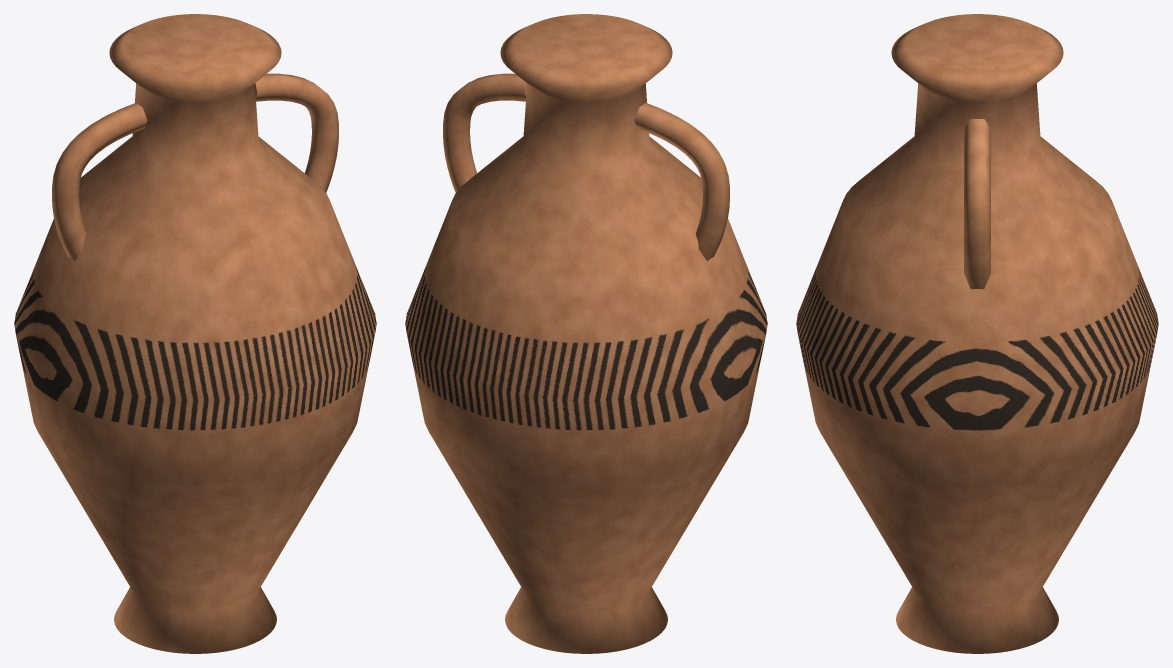
File: urn.glb
3 views of the same model, side by side, from view 1: azimuth 30°, elevation 25°; view 2: azimuth 150°, elevation 25°; view 3: azimuth 270°, elevation 25° (orthographic).
Visible parts, largest first — view 1: urn; view 2: urn; view 3: urn.
Boxes of the visible parts, left/top/right/bottom form: urn: left=14, top=14, right=376, bottom=653; urn: left=405, top=14, right=767, bottom=653; urn: left=796, top=14, right=1158, bottom=653.
Bounding box in the file's own units: 4 × 7 × 4.
1 material, 1 textured.
